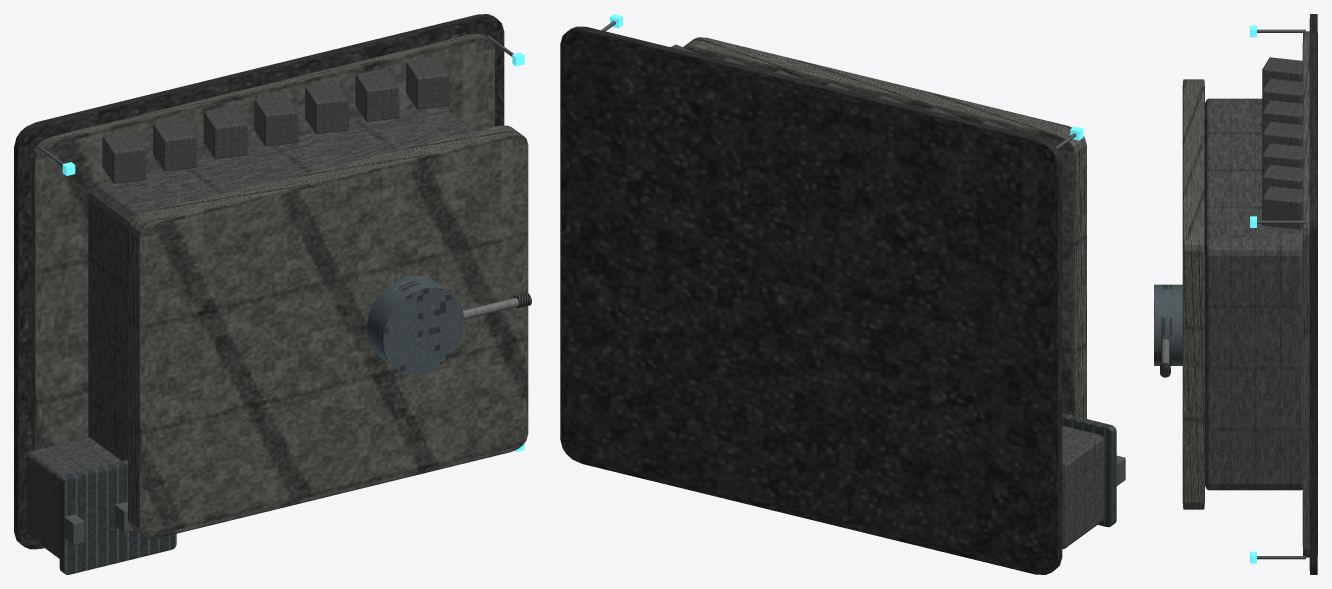
File: b-35-bunker-lod0.glb
The picture shows the model from 3 angles, left to right: view 1: azimuth 30°, elevation 25°; view 2: azimuth 150°, elevation 25°; view 3: azimuth 270°, elevation 25°; orthographic projection. The views are drawn at different scales.
Parts seen in each view (by area): view 1: bunker_roof, foundation_inner_pad, bunker_main, foundation, small_turret, checkpoint_roof, checkpoint_main_hall, dragon_tooth_2, dragon_tooth_0, dragon_tooth_-1, dragon_tooth_-3, dragon_tooth_-2 (+2 smaller); view 2: foundation, bunker_roof, checkpoint_main_hall, checkpoint_roof; view 3: bunker_main, bunker_roof, foundation, foundation_inner_pad, small_turret, dragon_tooth_3, dragon_tooth_-3, dragon_tooth_-1, dragon_tooth_1, dragon_tooth_2, dragon_tooth_-2, dragon_tooth_0.
Boxes of the visible parts, box(x1,y1,x2,y2) form: bunker_roof: box(128, 125, 528, 538); foundation_inner_pad: box(31, 34, 494, 450); bunker_main: box(88, 106, 475, 460); foundation: box(14, 14, 504, 549); small_turret: box(367, 275, 464, 374); checkpoint_roof: box(59, 460, 176, 574); checkpoint_main_hall: box(26, 437, 121, 558); dragon_tooth_2: box(355, 68, 399, 121); dragon_tooth_0: box(254, 93, 298, 146); dragon_tooth_-1: box(203, 105, 247, 158); dragon_tooth_-3: box(102, 130, 146, 183); dragon_tooth_-2: box(153, 118, 196, 171); foundation: box(560, 26, 1062, 574); bunker_roof: box(683, 37, 1086, 418); checkpoint_main_hall: box(1062, 425, 1103, 548); checkpoint_roof: box(1062, 413, 1116, 527); bunker_main: box(1205, 98, 1302, 490); bunker_roof: box(1182, 79, 1204, 509); foundation: box(1309, 14, 1317, 574); foundation_inner_pad: box(1302, 31, 1309, 557); small_turret: box(1154, 284, 1182, 365); dragon_tooth_3: box(1262, 186, 1302, 229); dragon_tooth_-3: box(1262, 57, 1302, 90); dragon_tooth_-1: box(1262, 100, 1302, 133); dragon_tooth_1: box(1262, 143, 1302, 176); dragon_tooth_2: box(1262, 164, 1302, 197); dragon_tooth_-2: box(1262, 79, 1302, 111); dragon_tooth_0: box(1262, 122, 1302, 154).
Size of what is drawn, in the model's own units: 12.09 by 10 by 4.03.
Materials: 10 (10 with a texture image).
